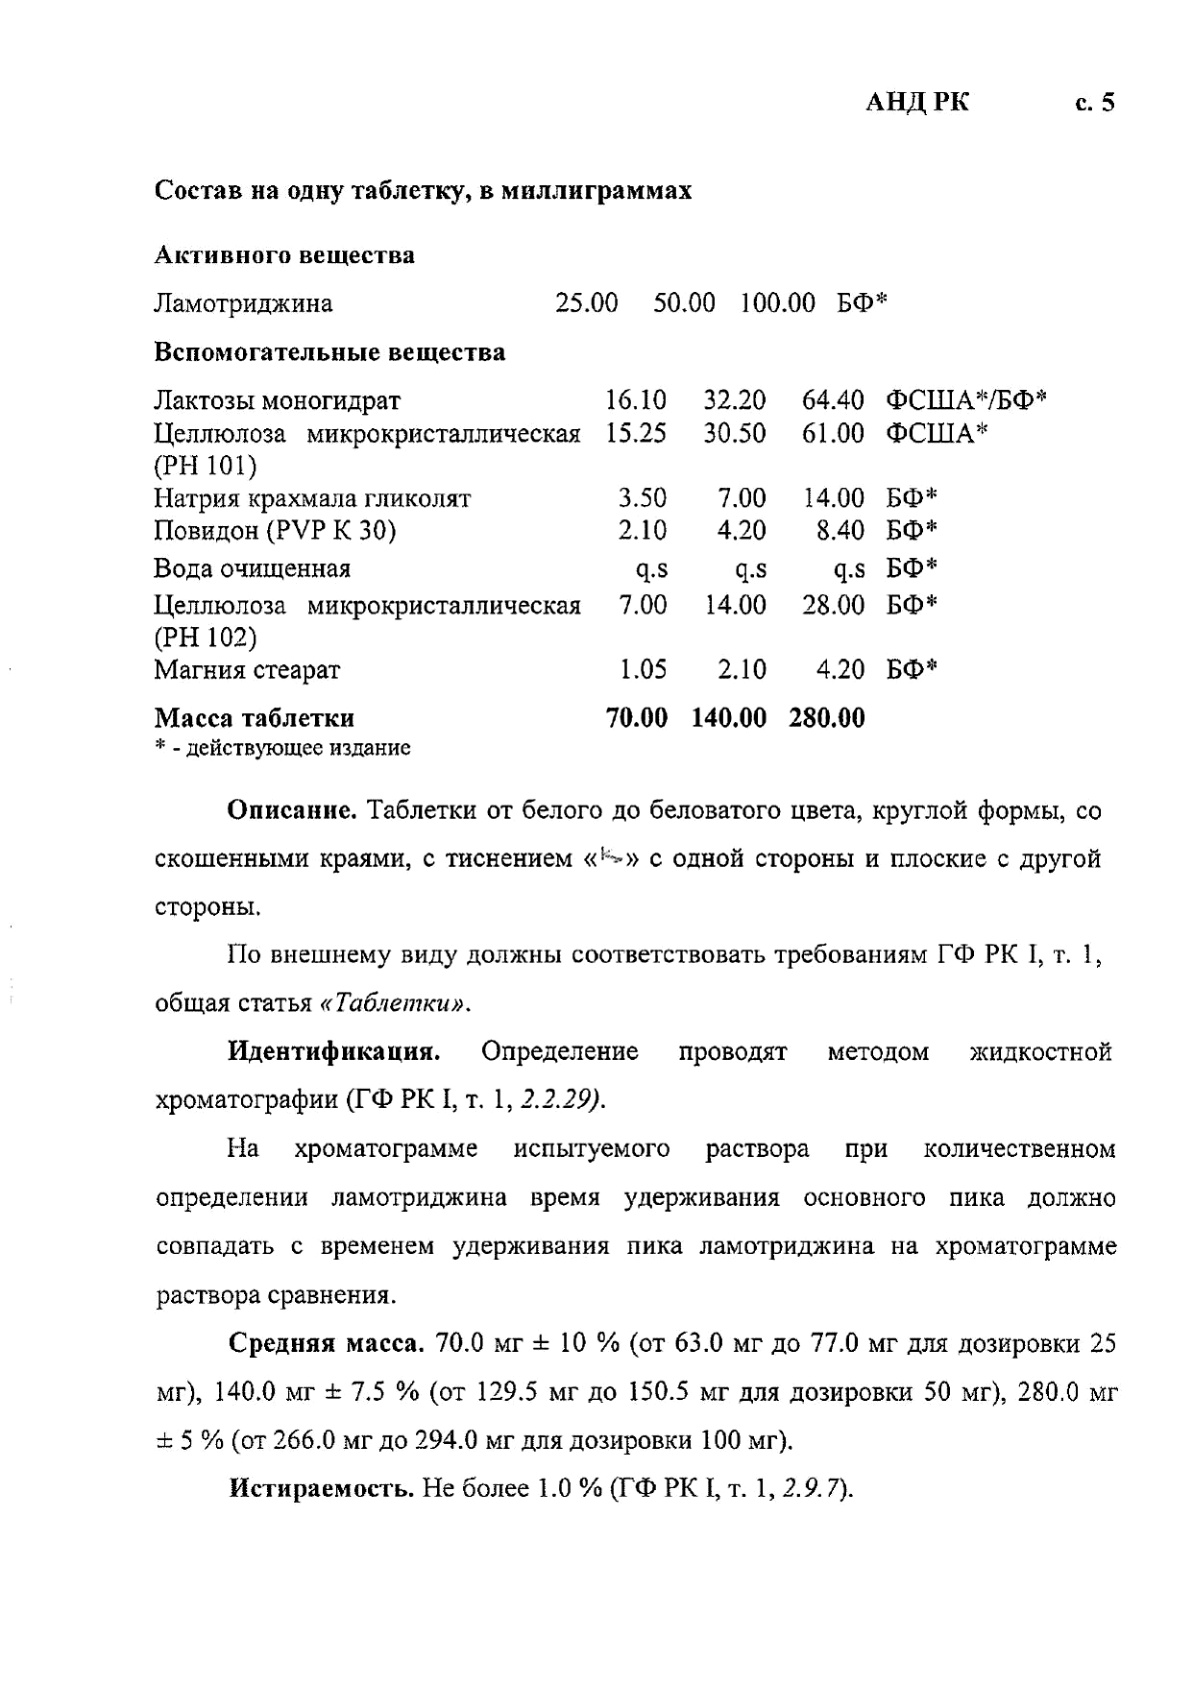nolines: (150, 385, 1050, 761)
